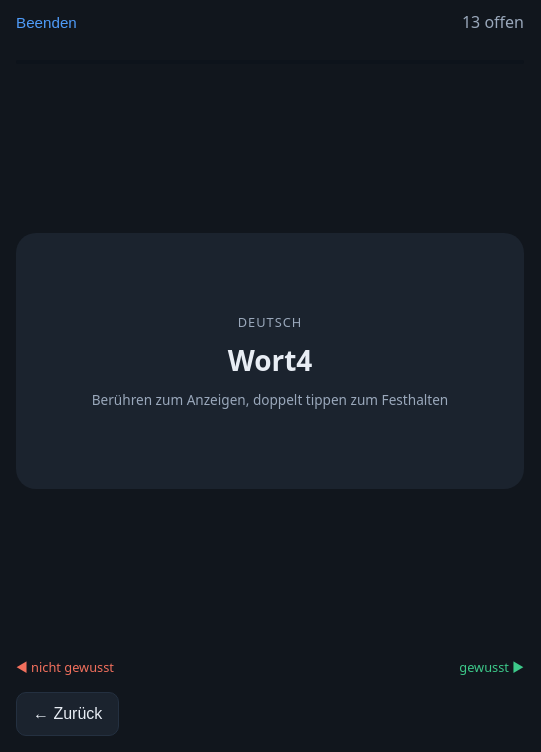
Test: Zurückblättern › wertet Wischen auf einer zurückgeblätterten Karte nicht und führt mit "Weiter" zur aktuellen Karte zurück
This screenshot has width=541, height=752.
Earlier steps of the test are not shown.
Click the button "← Zurück" at (68, 714), box [16, 692, 119, 736]
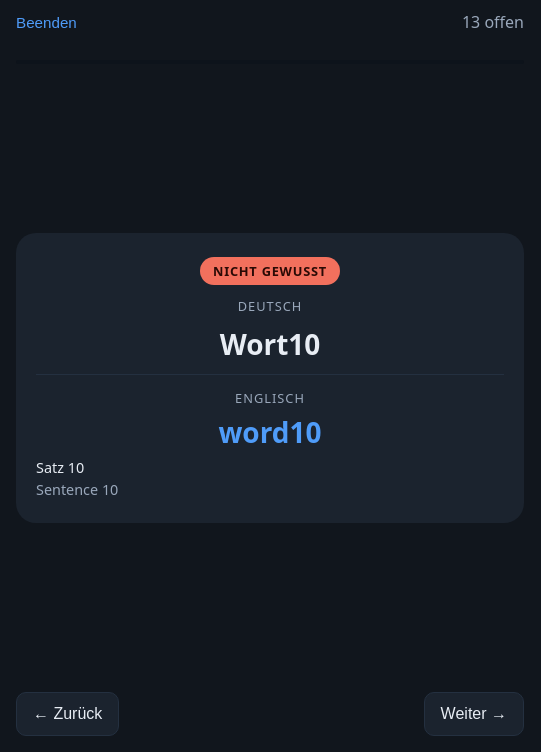
Click the button "← Zurück" at (68, 714), box [16, 692, 119, 736]
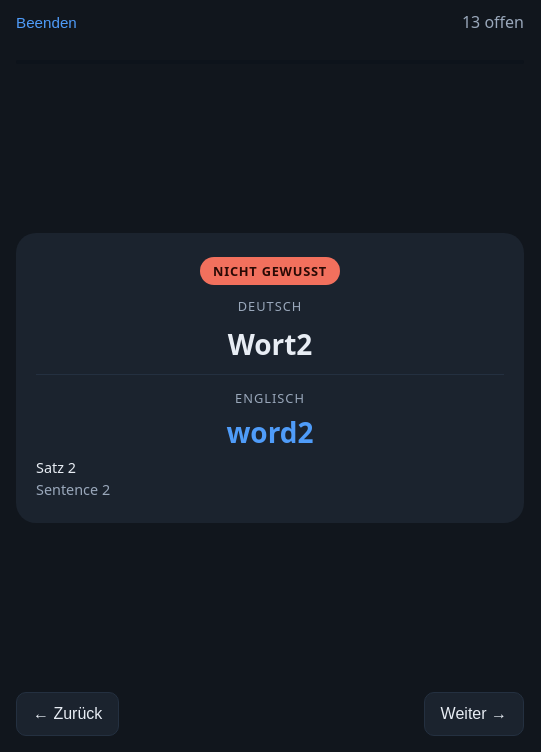
Click the button "← Zurück" at (68, 714), box [16, 692, 119, 736]
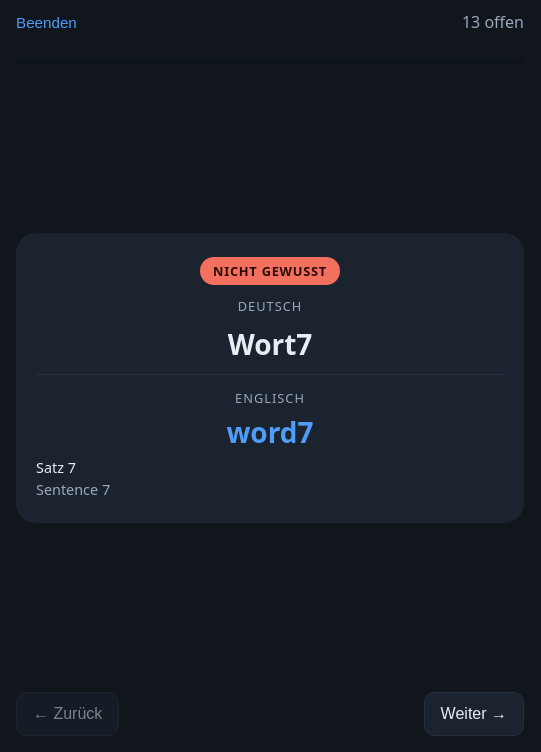
Press the mouse on the element showing "Nicht gewusst Deutsch Wort7 Englisch word7 Satz 7 Sentence 7" at (270, 378), box [16, 233, 524, 523]
Click the button "Weiter →" at (474, 714), box [424, 692, 524, 736]
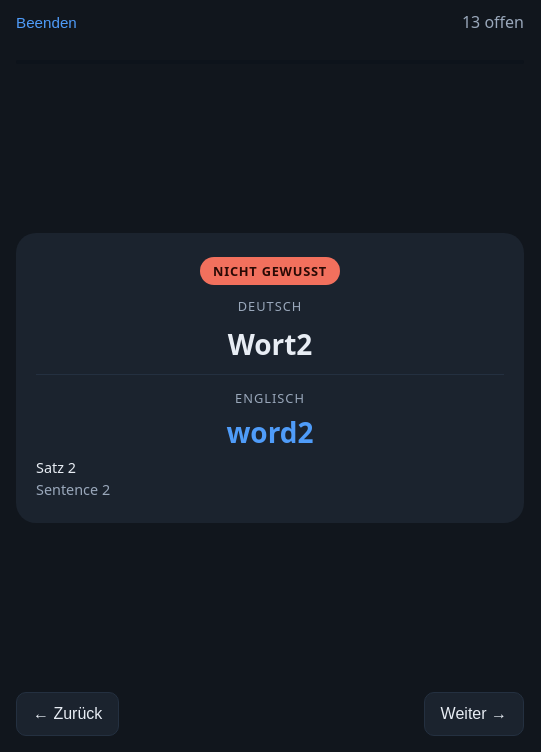
Click the button "Weiter →" at (474, 714), box [424, 692, 524, 736]
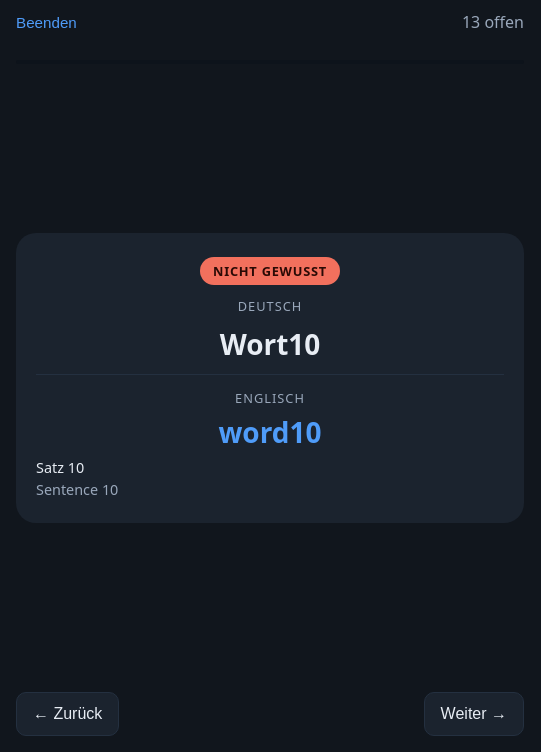
Click the button "Weiter →" at (474, 714), box [424, 692, 524, 736]
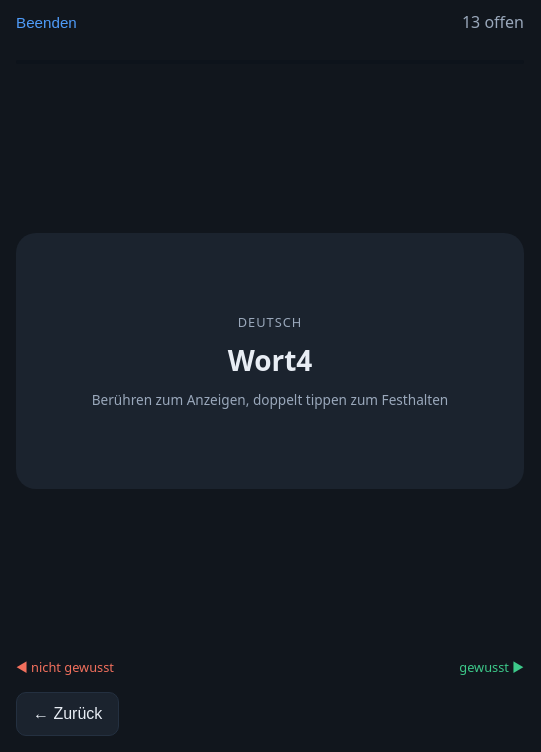
Check: the element with class "card--review" is gone
Check: the element with class "card-answer" is gone
Check: the button "Weiter →" is gone
